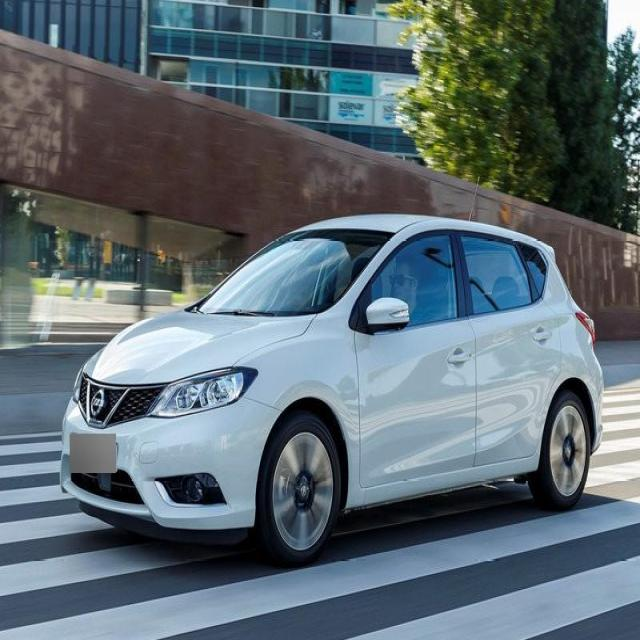back_left_side_light: (570, 306, 602, 339)
door: (458, 230, 550, 470)
front_bumper: (59, 392, 281, 534)
front_glass: (194, 230, 392, 316)
front_left_side_door: (352, 219, 480, 488)
front_left_side_light: (150, 363, 257, 421)
front_left_side_mirror: (359, 297, 411, 333)
wheel: (260, 419, 344, 560), (538, 392, 594, 504)
